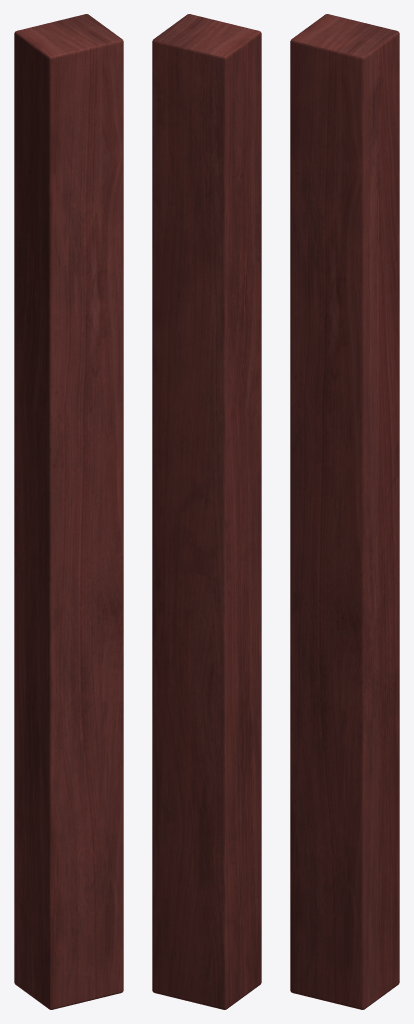
The model's file is SM_SJJ_HG_Pillar01A.fbx.
3 renders of one model, left to right at view 1: azimuth 30°, elevation 25°; view 2: azimuth 150°, elevation 25°; view 3: azimuth 330°, elevation 25°, orthographic.
Visible parts, largest first — view 1: SM_SJJ_HG_Pillar01A; view 2: SM_SJJ_HG_Pillar01A; view 3: SM_SJJ_HG_Pillar01A.
Part boxes in pixels (bbox=[...]): SM_SJJ_HG_Pillar01A: bbox=[14, 14, 123, 1009]; SM_SJJ_HG_Pillar01A: bbox=[152, 14, 261, 1009]; SM_SJJ_HG_Pillar01A: bbox=[290, 14, 399, 1009].
Bounding box in the file's own units: 22.68 × 19.39 × 277.
Materials: 1 (1 with a texture image).
